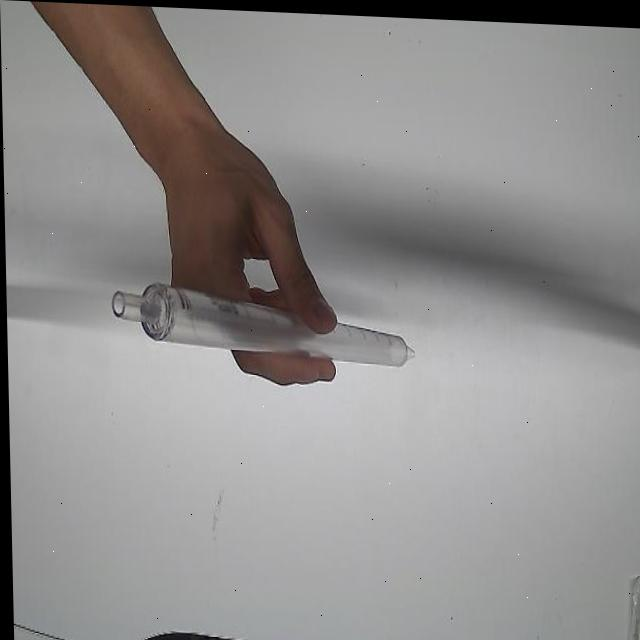Serelogical Pipet 50 mL: (101, 259, 417, 368)
